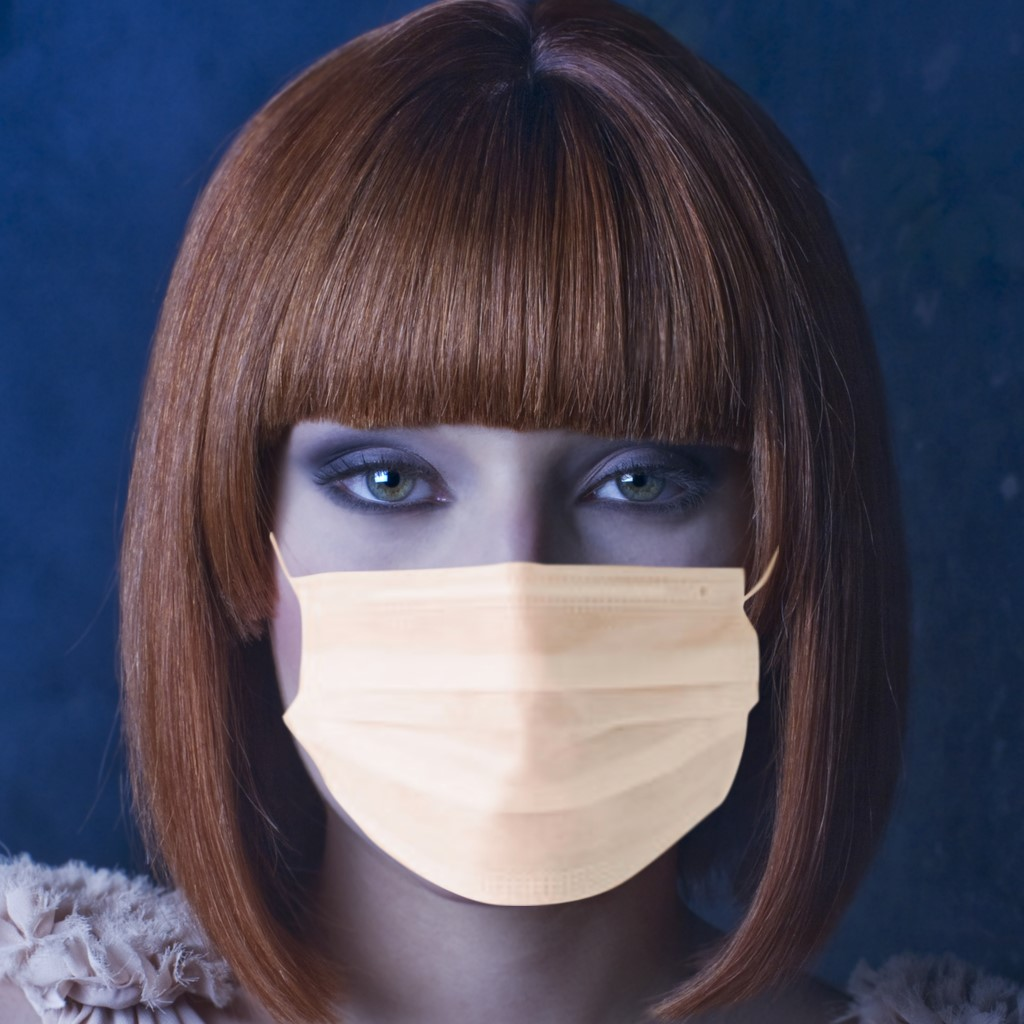con_mascara: (207, 275, 772, 902)
